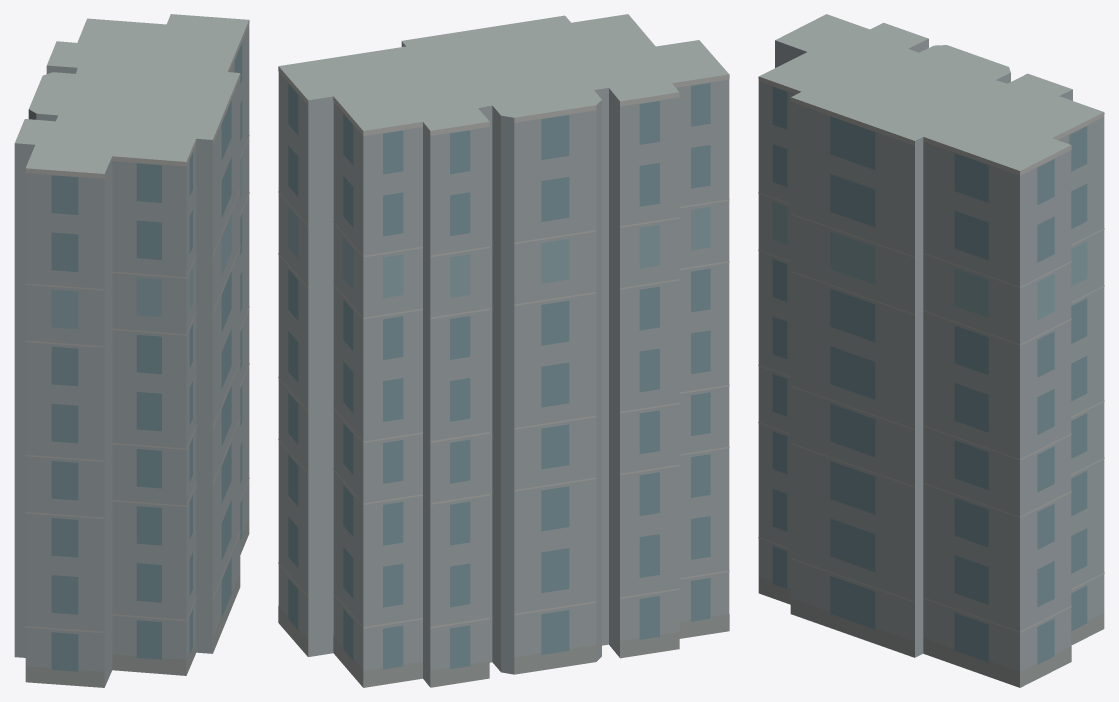
Rendered from survey-upis-32626880.glb.
3 renders of one model, left to right at view 1: azimuth 30°, elevation 25°; view 2: azimuth 150°, elevation 25°; view 3: azimuth 270°, elevation 25°, orthographic. The views are drawn at different scales.
Parts seen in each view (by area): view 1: survey-upis-32626880.tmp; view 2: survey-upis-32626880.tmp; view 3: survey-upis-32626880.tmp.
Boxes of the visible parts, left/top/right/bottom form: survey-upis-32626880.tmp: left=14, top=14, right=249, bottom=687; survey-upis-32626880.tmp: left=278, top=14, right=729, bottom=687; survey-upis-32626880.tmp: left=758, top=14, right=1104, bottom=687.
Bounding box in the file's own units: 17.52 × 26.85 × 16.29.
